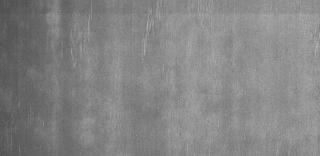silk spot: (59, 6, 97, 60), (140, 2, 172, 58)
